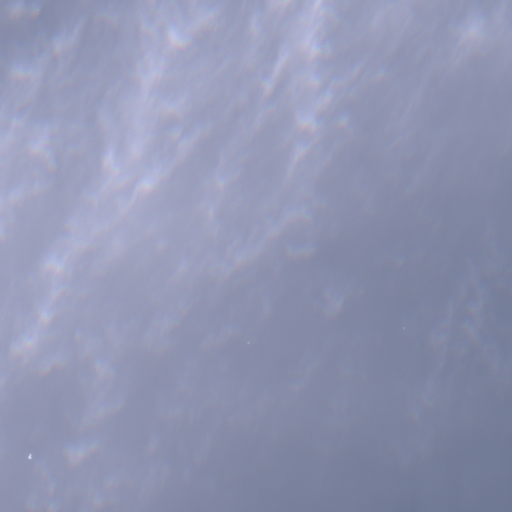Iceberg: (28, 454, 30, 458), (247, 342, 248, 343)
